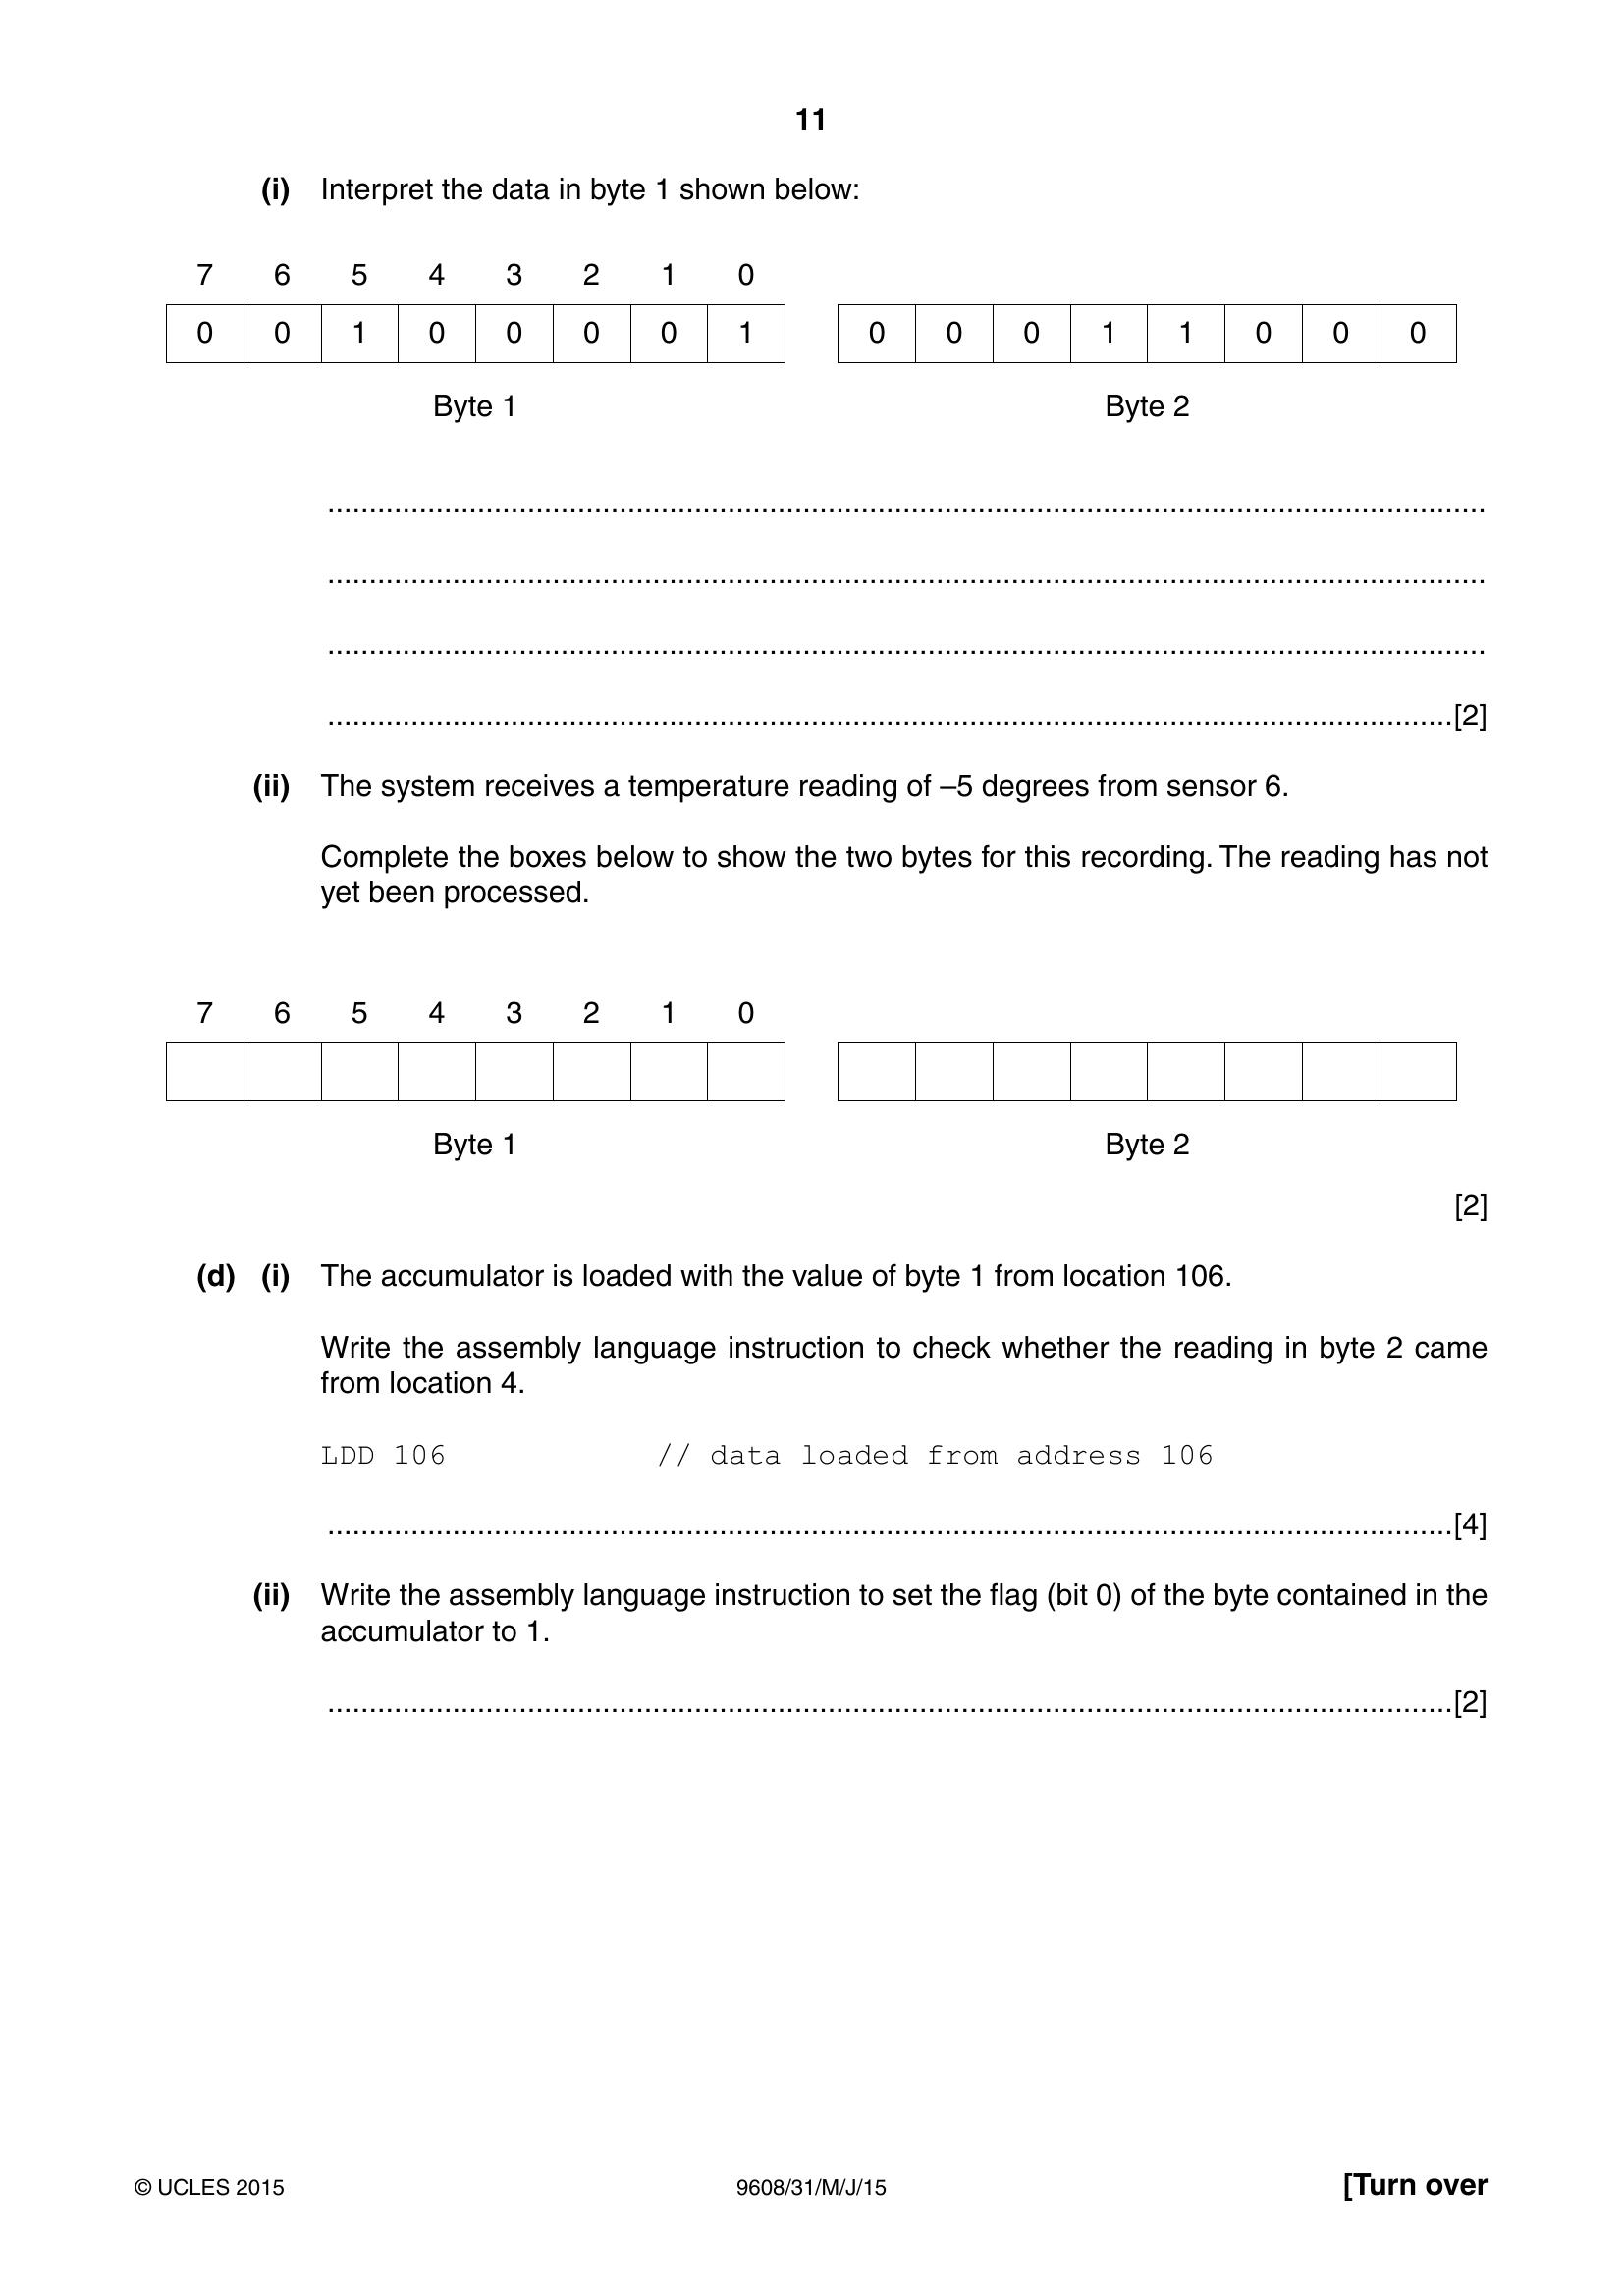continued question: (7, 156, 1624, 1799)
